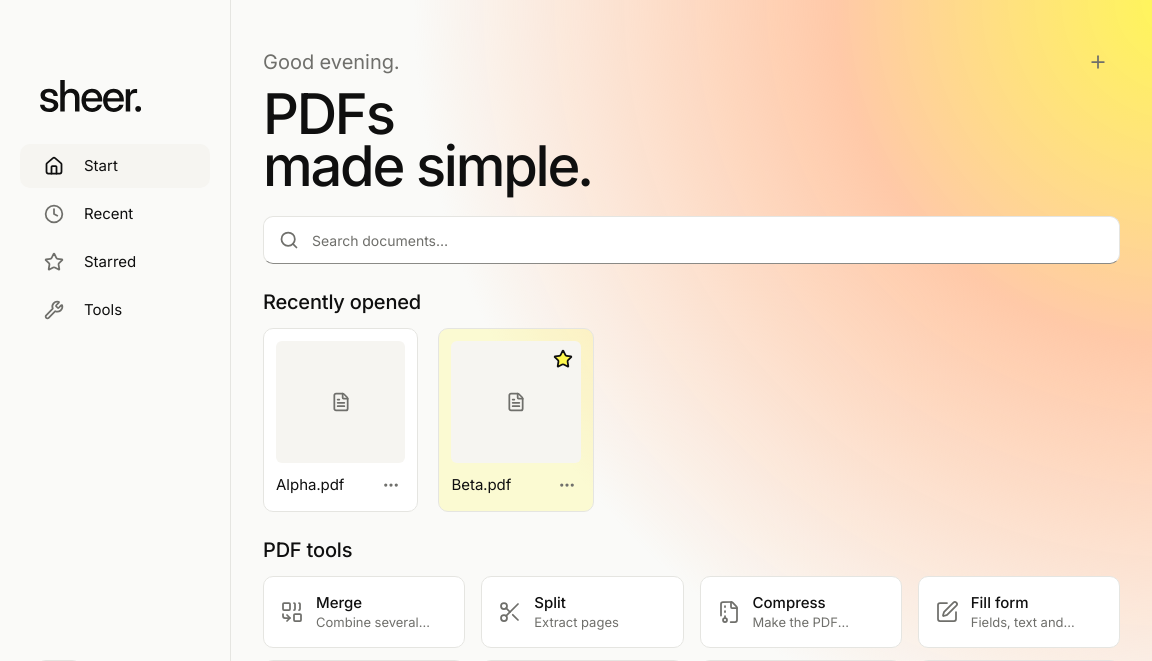
Home › lists the recent files as cards and filters them from the search field
Expected: the button "Alpha.pdf" is shown, [264,329,417,511]
Type "bet" into the search field at (692, 240), box [263,216,1120,264]
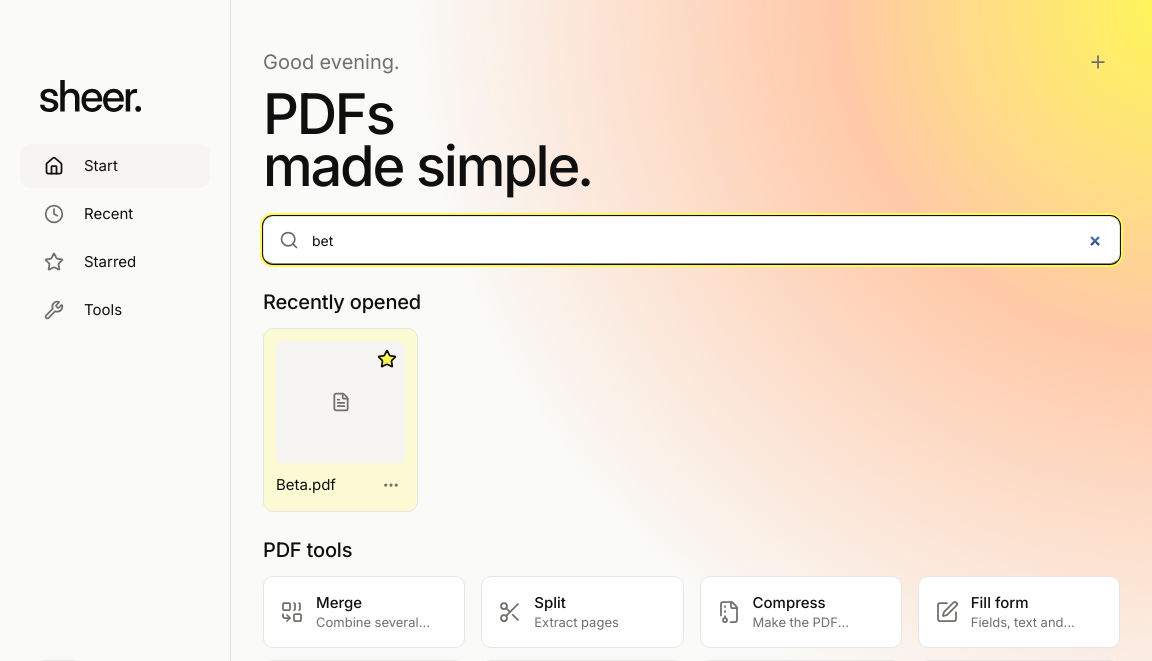
Expected: the button "Beta.pdf" is shown, [264,329,417,511]
Expected: the button "Alpha.pdf" is gone
